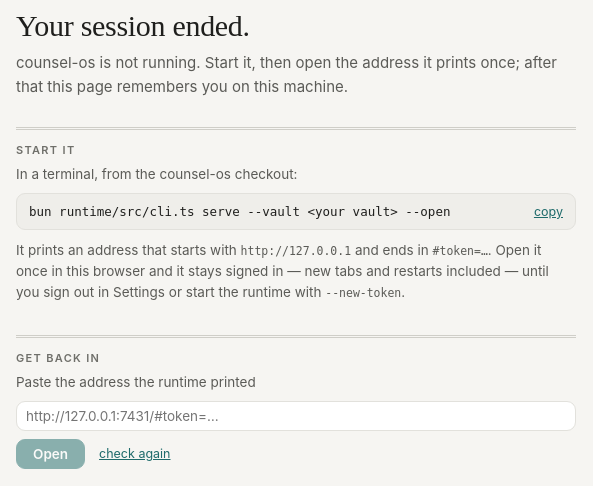
Test case: SessionLost › "check again" probes again
This screenshot has width=593, height=486.
expect the message shows "not running": met, box [16,53,557,96]
Click the button "check again".
click(135, 454)  # box [99,444,170,464]
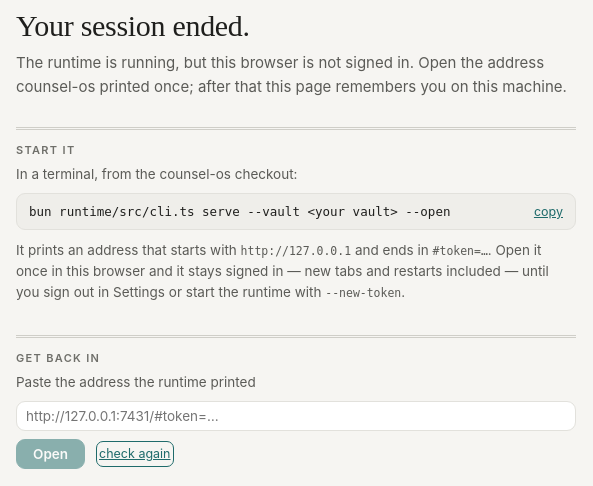
expect the message shows "The runtime is running": met, box [16,53,567,96]
